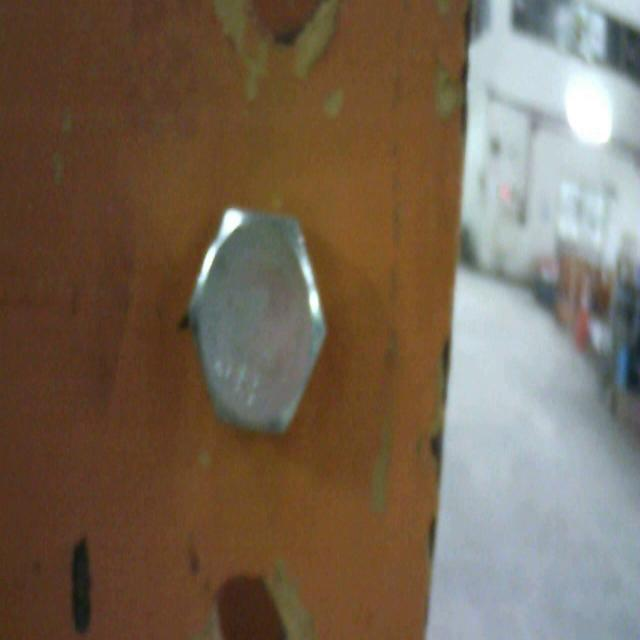Missing bolt: (202, 563, 293, 640)
Regular bolt: (189, 194, 329, 449)
